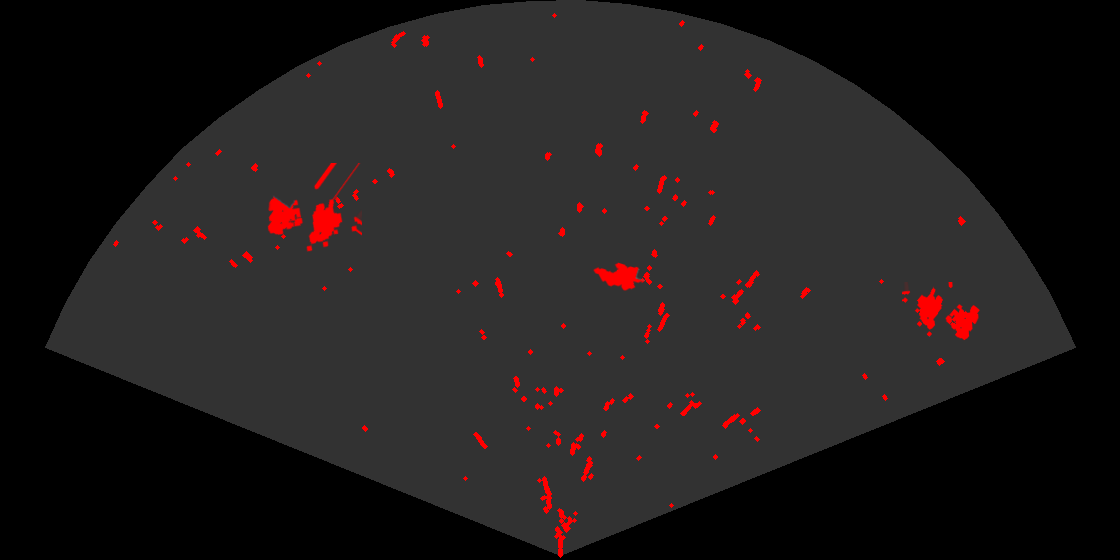AUV: (592, 261, 646, 292)
cage: (266, 163, 362, 253), (902, 282, 981, 342)
